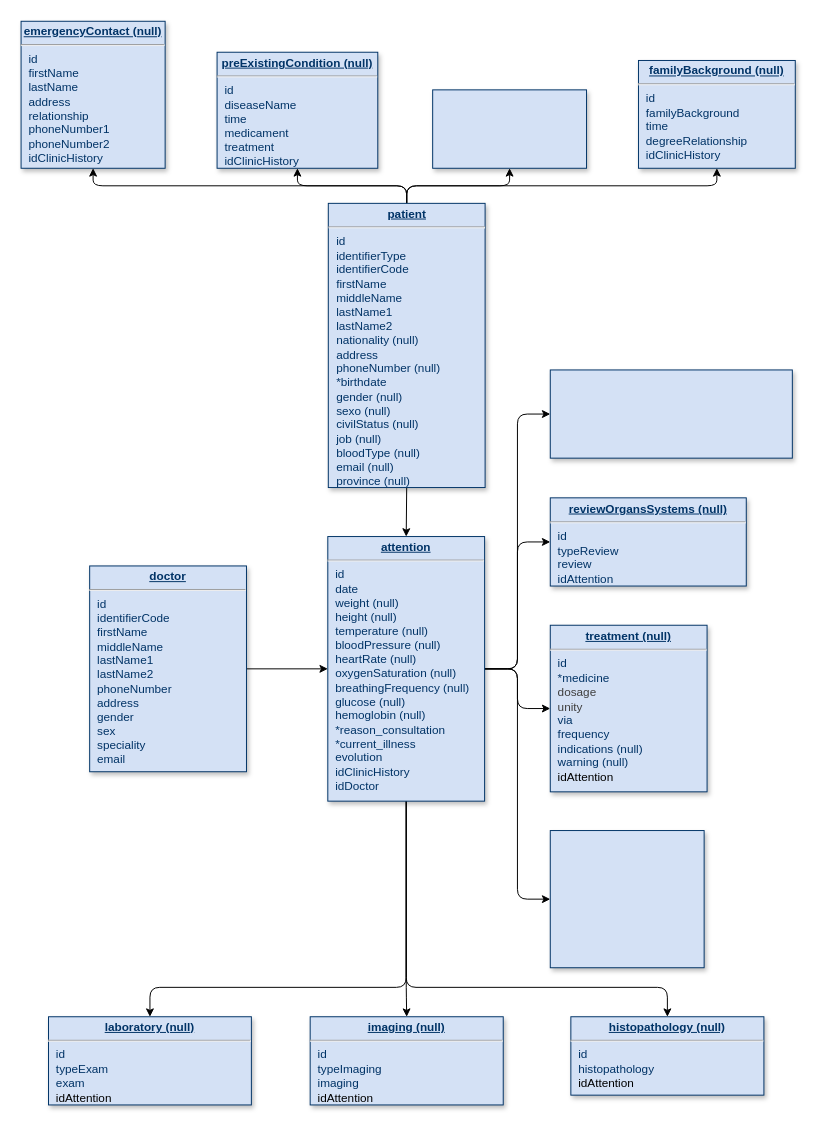
Some shapes in this 818 by 1129 pixel diagram are drawn without their labels. The centre of each missing label's shape, as x and y in pixels:
"allergies (null) id allergies idClinicHistory" goes at (510,130).
"diagnostic id *cie10Code *disease condition chronology observations idAttention" goes at (627,900).
"regionalPhysicalExamination id typeExamination examination idAttention" goes at (671,415).
